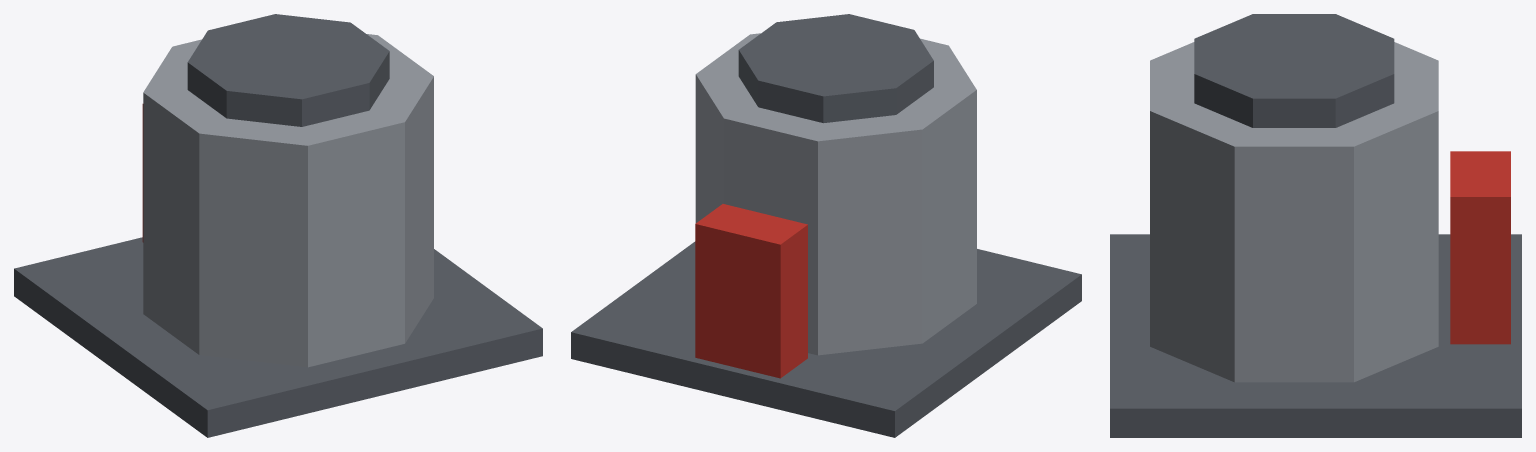
File: mypack_tank.obj
3 renders of one model, left to right at view 1: azimuth 30°, elevation 25°; view 2: azimuth 150°, elevation 25°; view 3: azimuth 270°, elevation 25°, orthographic. The views are drawn at different scales.
Bounding box in the file's own units: 1.9 × 1.5 × 1.9.
